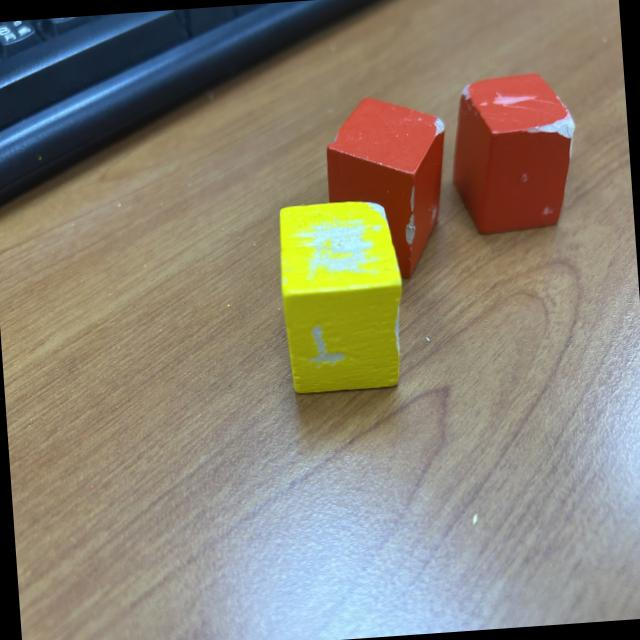broken: (274, 198, 408, 396), (322, 90, 456, 284), (445, 71, 583, 236)
